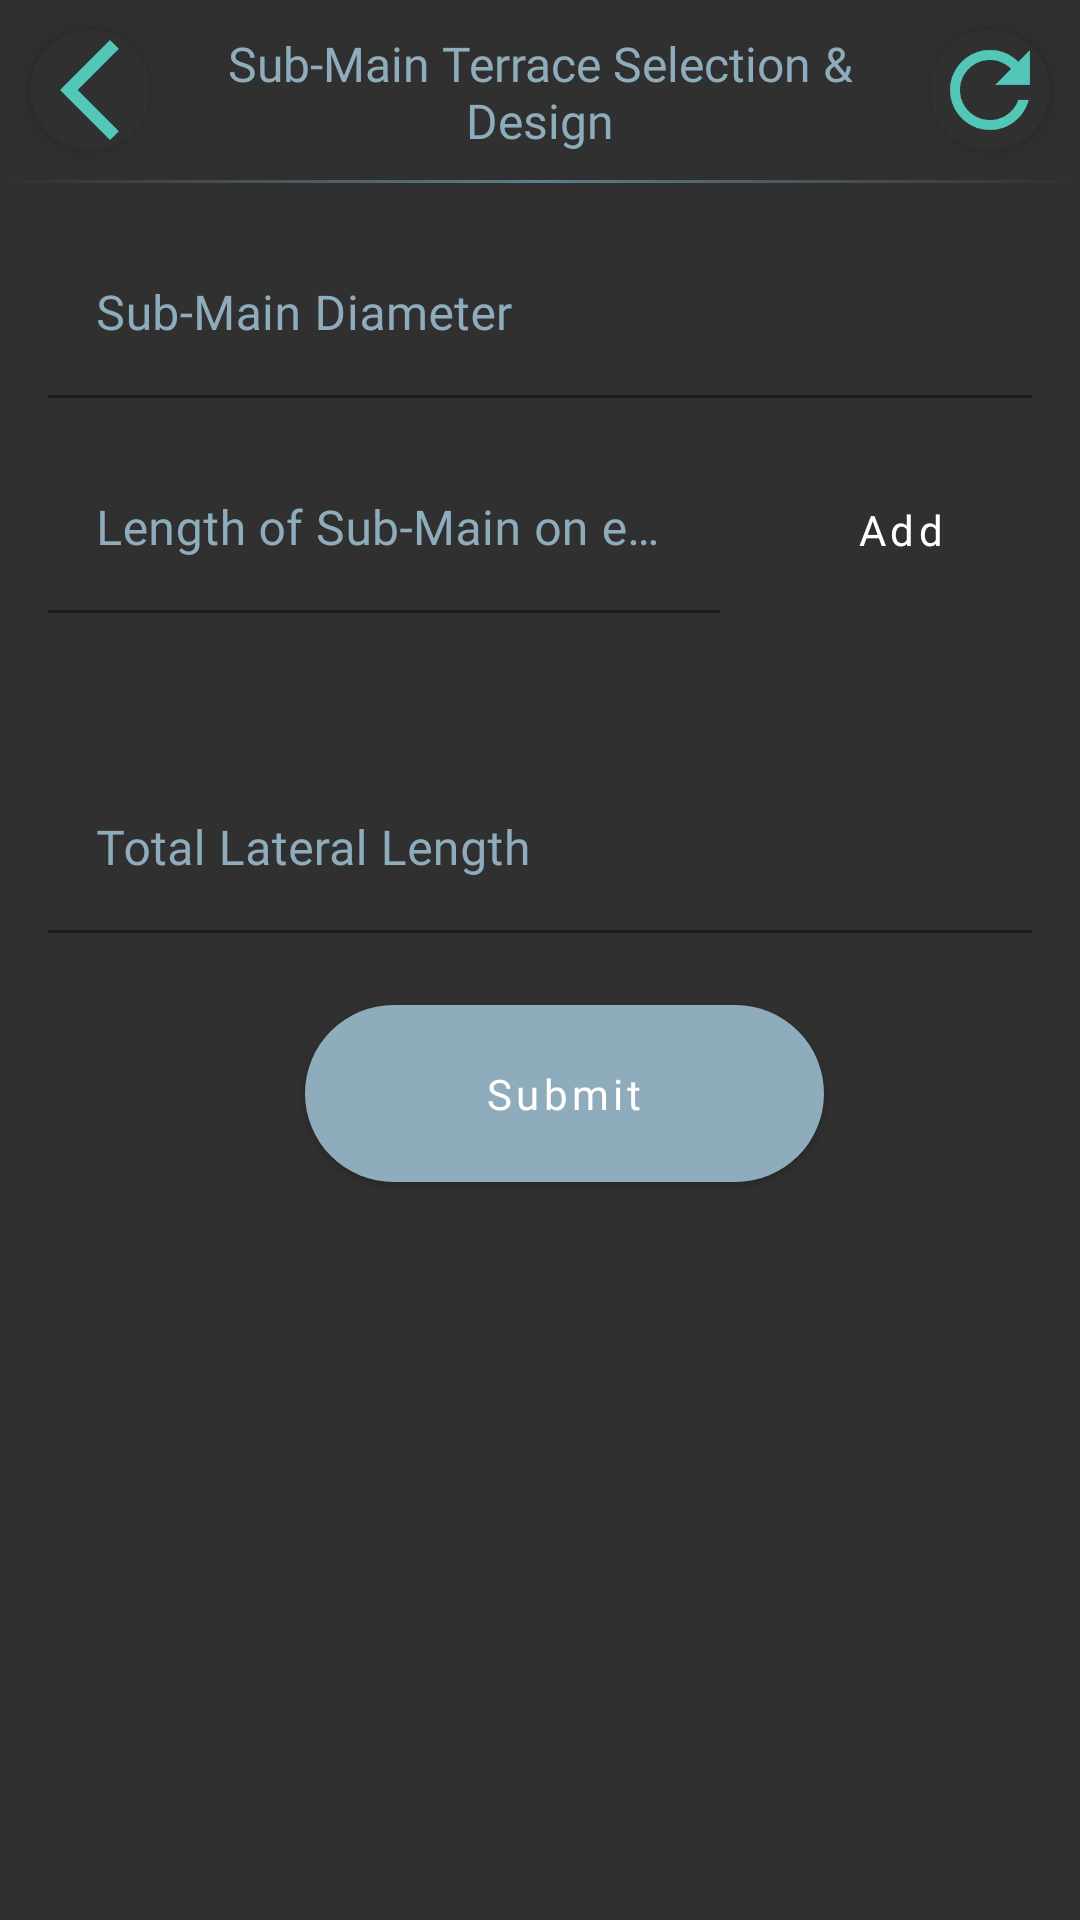

Named icons in this screenshot (1080px x 1920px) and their centers, (x=x, y=y):
Back: (x=89, y=90)
Reset: (x=990, y=90)
